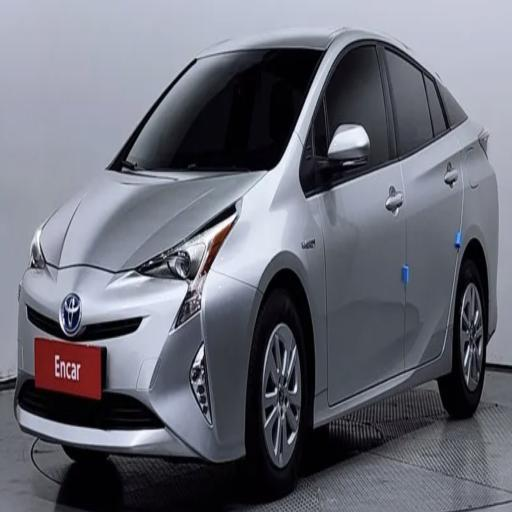normal: (11, 42, 498, 470)
